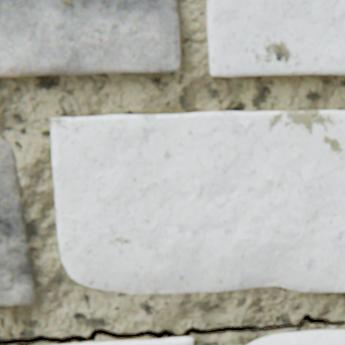brick: (52, 111, 344, 294), (0, 0, 180, 78), (208, 0, 344, 77), (0, 136, 36, 305), (248, 330, 344, 344), (65, 337, 194, 344)
crack: (0, 314, 344, 344)
